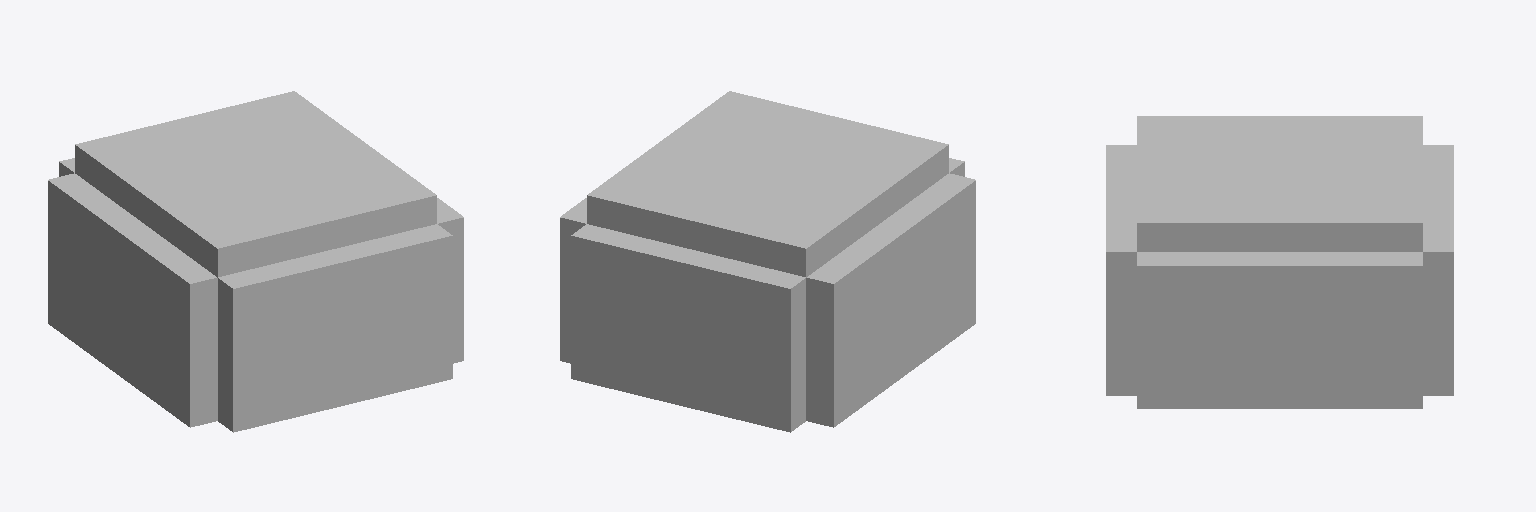
Rendered from obj_stool.obj.
3 renders of one model, left to right at view 1: azimuth 30°, elevation 25°; view 2: azimuth 150°, elevation 25°; view 3: azimuth 270°, elevation 25°, orthographic.
Visible parts, largest first — view 1: obj_stool; view 2: obj_stool; view 3: obj_stool.
Boxes of the visible parts, <box> form: obj_stool: <box>48,91,463,432</box>; obj_stool: <box>560,91,975,432</box>; obj_stool: <box>1106,116,1453,408</box>.
Bounding box in the file's own units: 10 × 6 × 11.